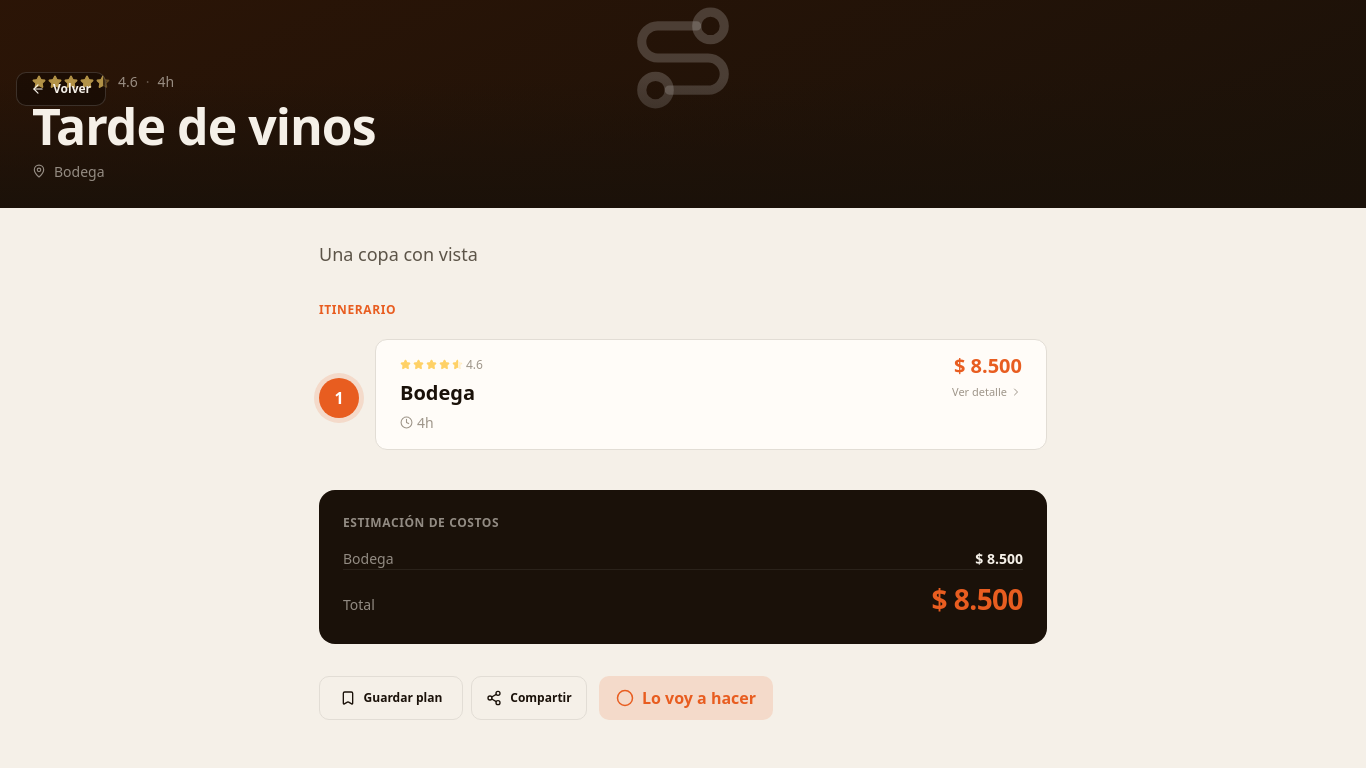
Test: PlanDetailView — plan intent (CU22, PAN 17) › reconciles from the server when the request already advanced (409)
(page scrolled)
Click the button "Lo voy a hacer" at [686, 698], box 599,676 -> 773,720
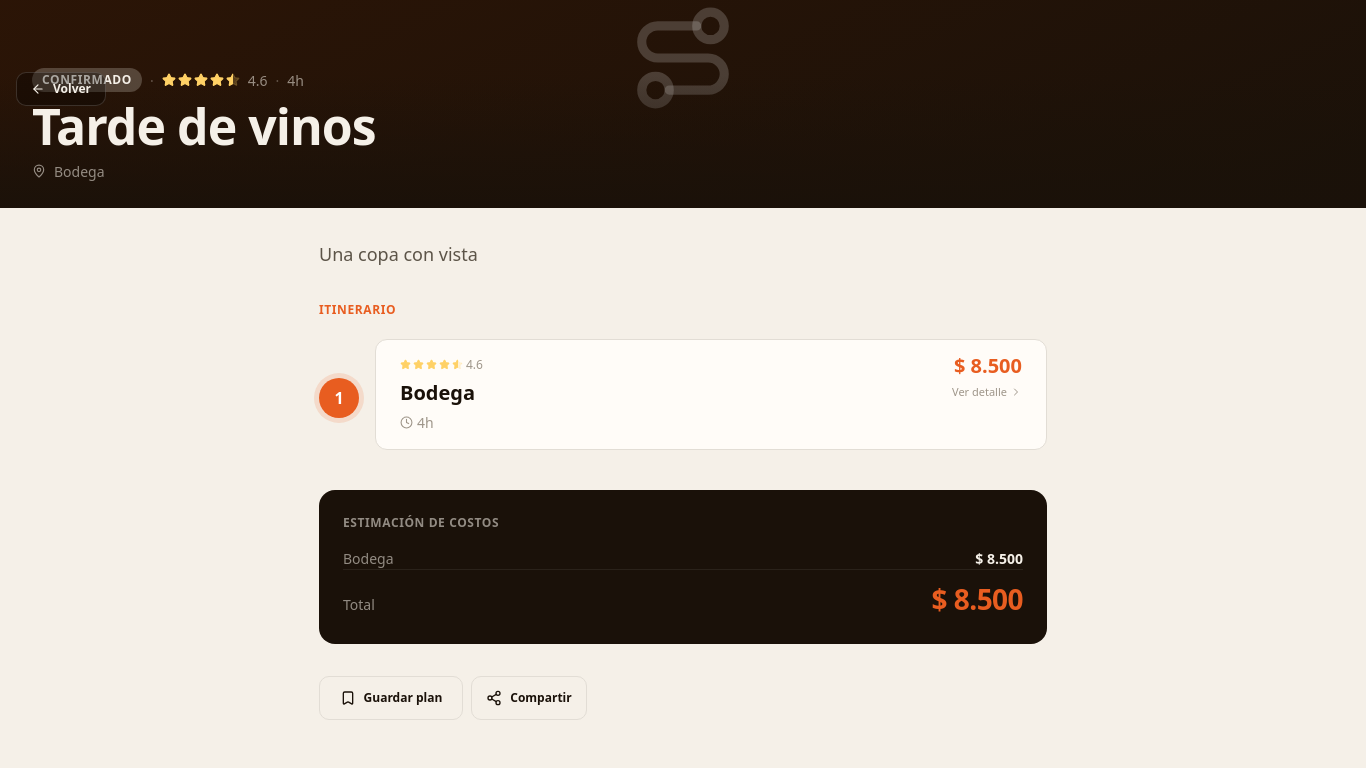
Check: the text "Confirmado" is shown, box 32,68 -> 142,92
Check: the button "Lo voy a hacer" is gone
